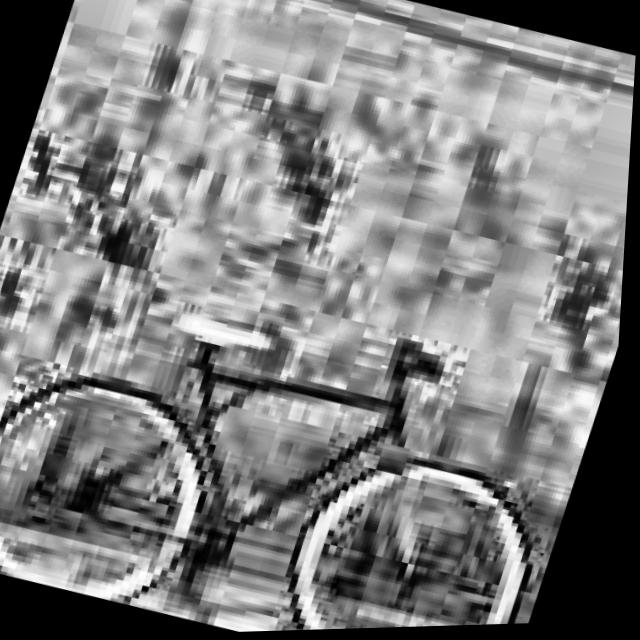bike: (0, 211, 612, 640)
